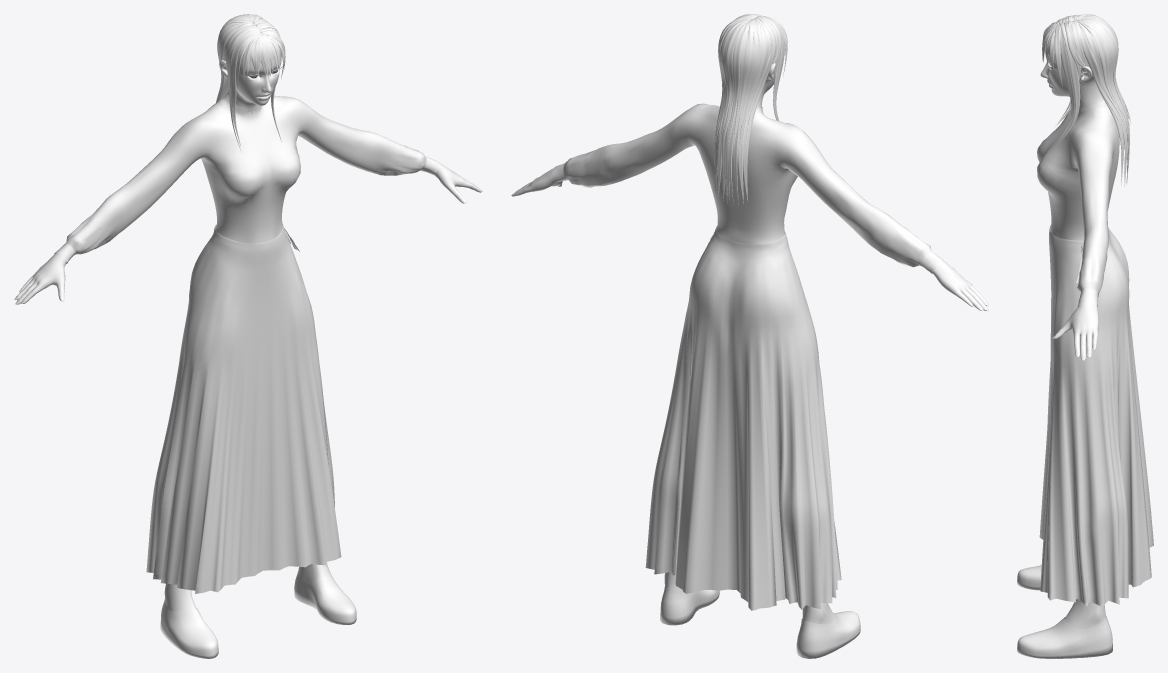
Rendered from human_base.glb.
3 views of the same model, side by side, from view 1: azimuth 30°, elevation 25°; view 2: azimuth 150°, elevation 25°; view 3: azimuth 270°, elevation 25° (orthographic). The views are drawn at different scales.
Visible parts, largest first — view 1: 裙子, 上衣, 卡通女, 卡通鞋子, 头发; view 2: 裙子, 上衣, 头发, 卡通鞋子, 卡通女; view 3: 裙子, 上衣, 头发, 卡通女, 卡通鞋子.
Part boxes in pixels (box(x1,y1,x2,y2)): 裙子: box(146, 223, 341, 593); 上衣: box(54, 91, 437, 263); 卡通女: box(14, 50, 482, 611); 卡通鞋子: box(160, 566, 356, 658); 头发: box(216, 14, 285, 150); 裙子: box(645, 226, 841, 610); 上衣: box(552, 103, 942, 274); 头发: box(714, 14, 787, 205); 卡通鞋子: box(660, 586, 860, 658); 卡通女: box(511, 63, 988, 624); 裙子: box(1039, 225, 1153, 607); 上衣: box(1037, 100, 1119, 306); 头发: box(1042, 14, 1130, 186); 卡通女: box(1040, 49, 1106, 629); 卡通鞋子: box(1017, 565, 1112, 658).
Bounding box in the file's own units: 1.42 × 1.74 × 0.3608.
11 materials, 1 textured.
